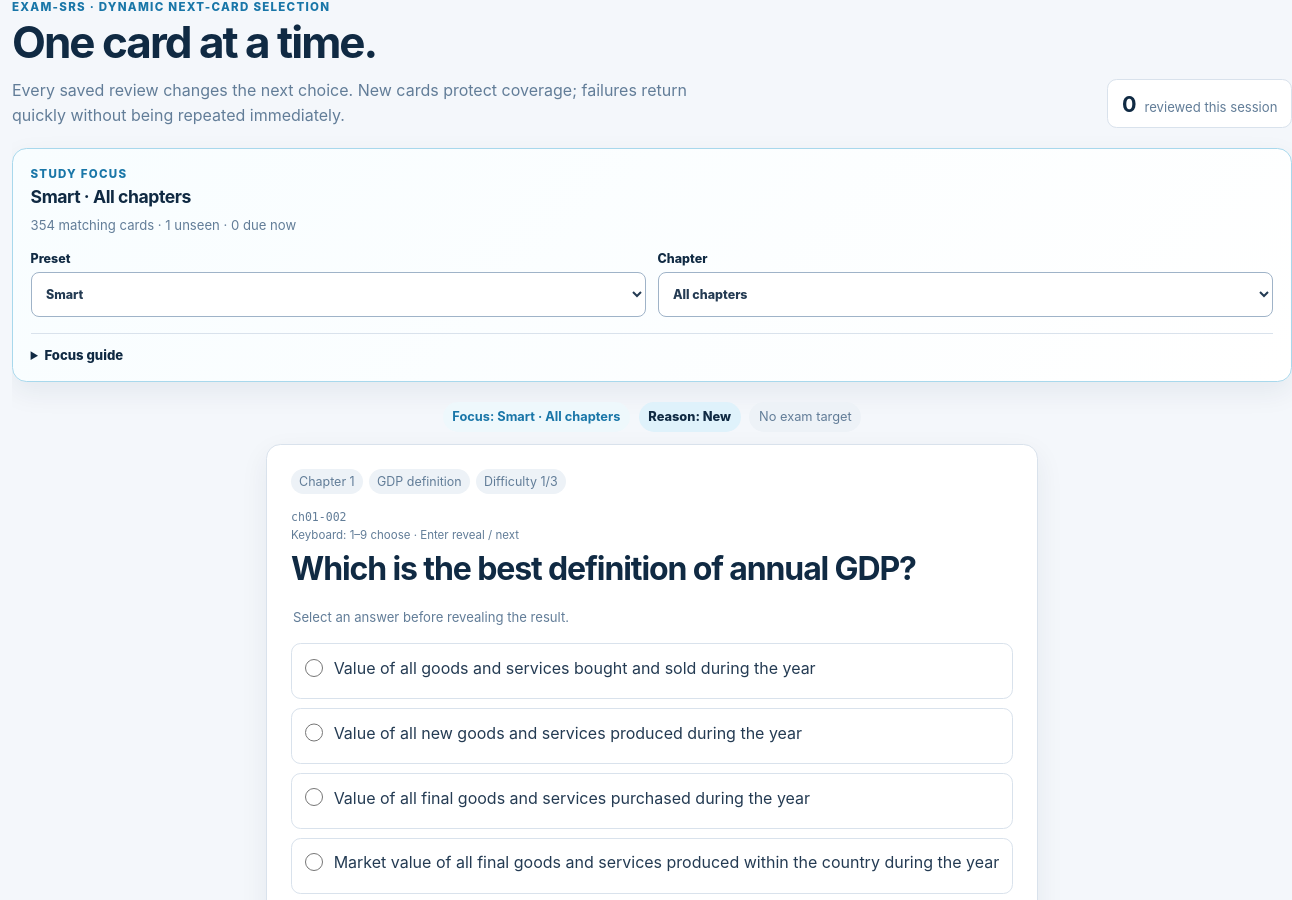
Test case: StudyPage session › keeps a completed result visible while a new focus waits for Next
This screenshot has width=1292, height=900.
Click the 4th radio button named "Market value of all final goods and services produced within the country during the year".
click(314, 862)  # box [305,853,323,871]
(page scrolled)
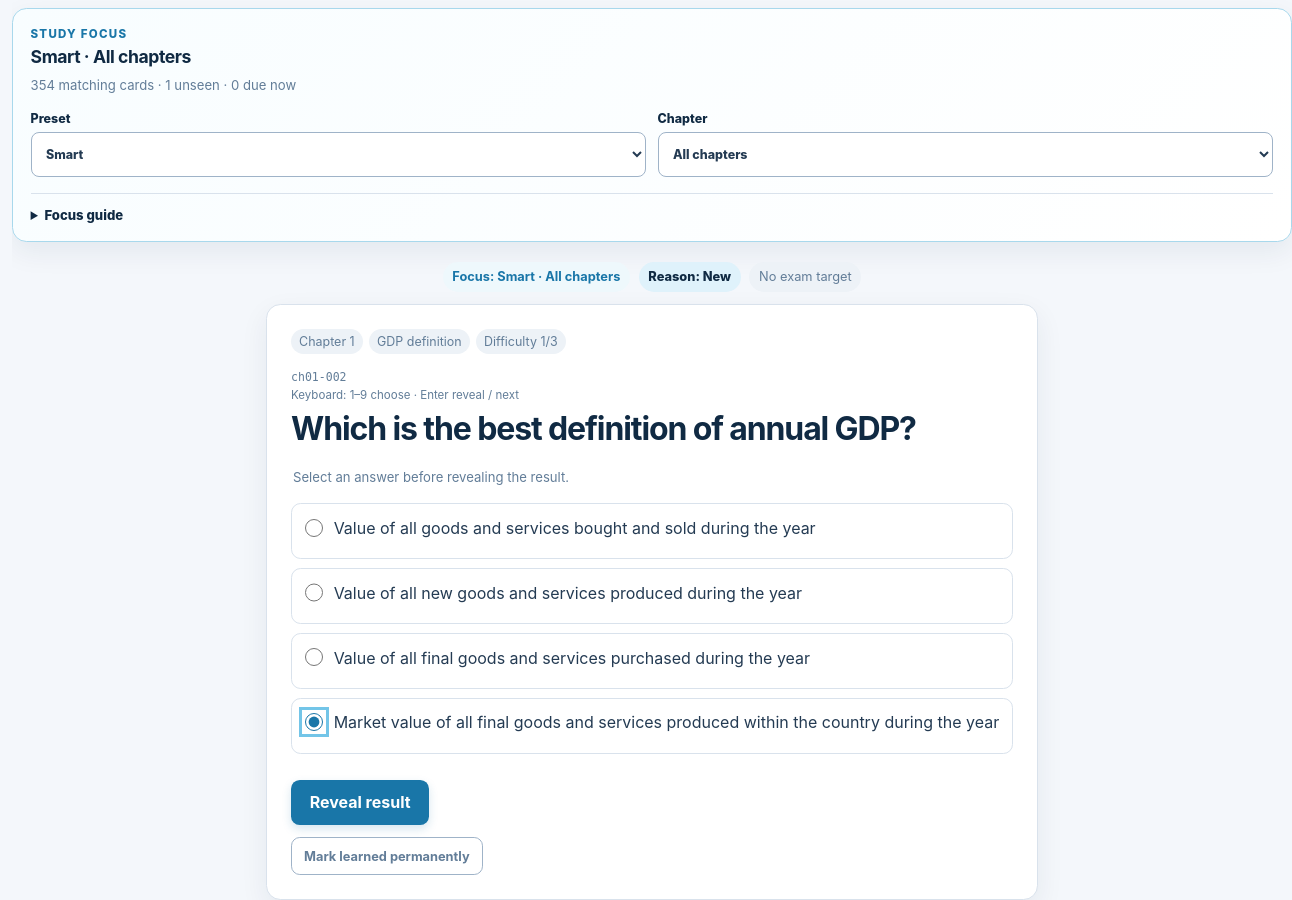
Click the button "Reveal result".
click(360, 803)  # box [291,780,429,826]
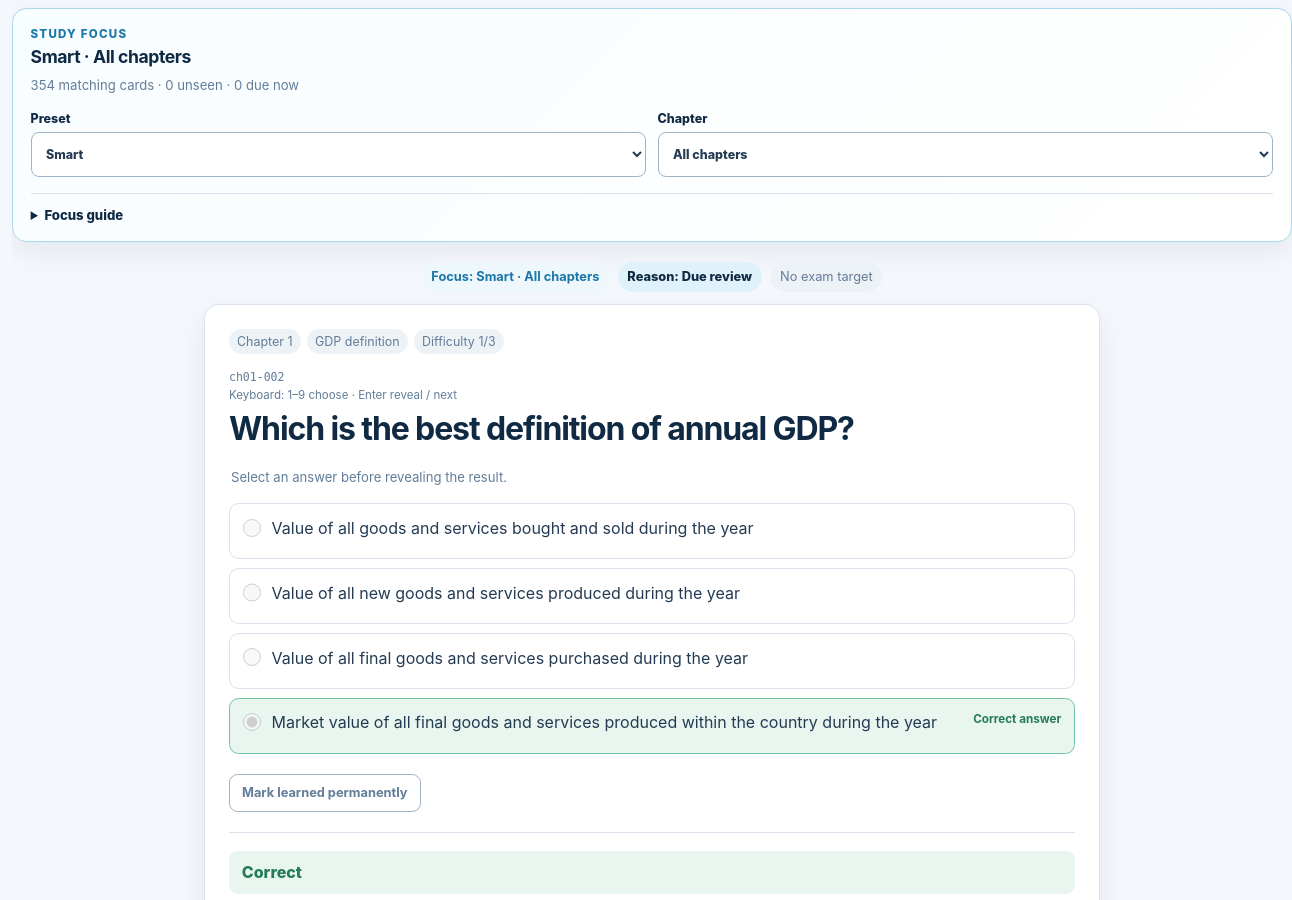
Select "Calculations" in the dropdown named "Study preset" at x=338, y=154, box [31,132,646,177]
(page scrolled)
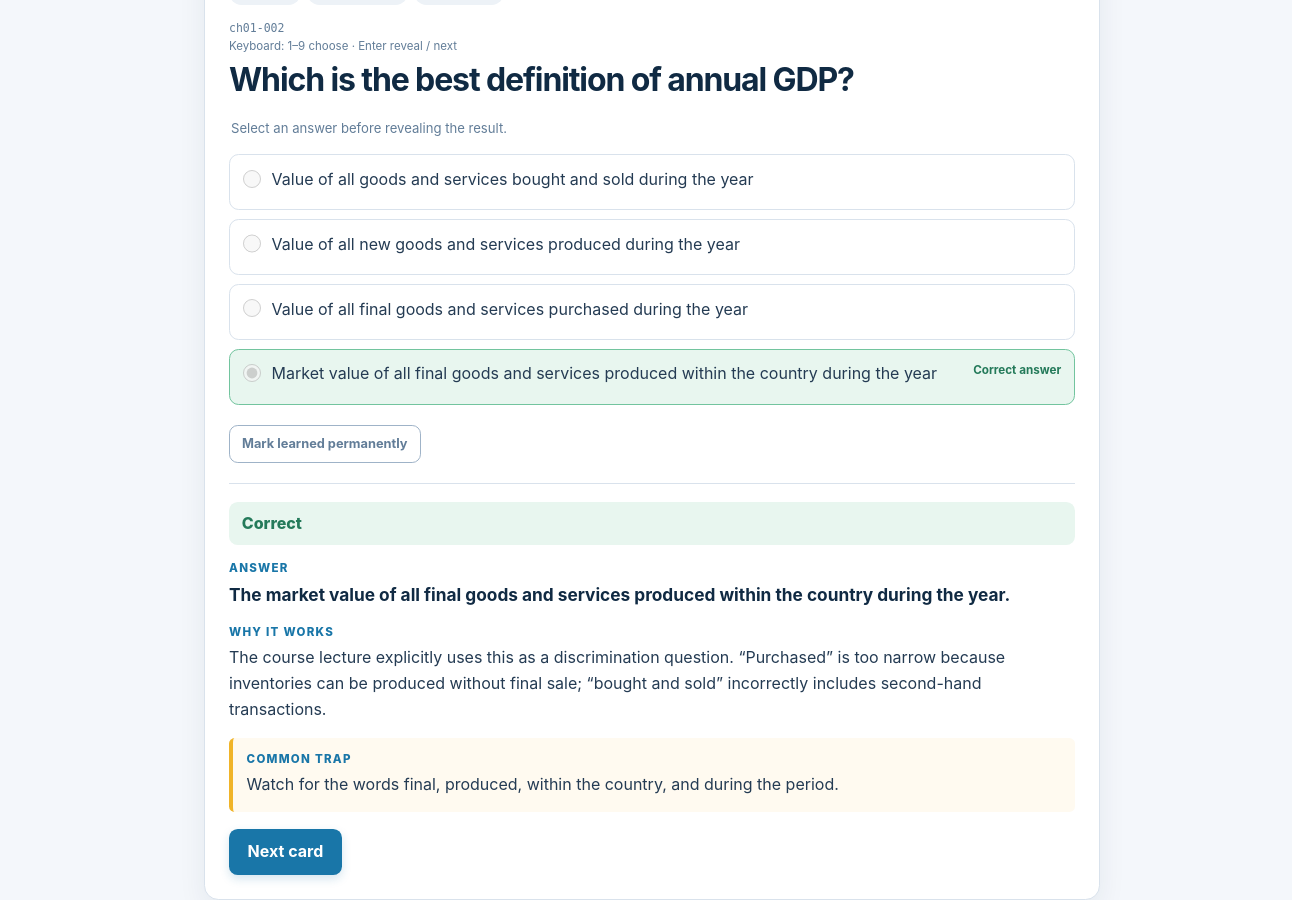
Check: the button "Next card" is shown
Click the button "Next card".
click(285, 852)  # box [229,829,342,875]
(page scrolled)
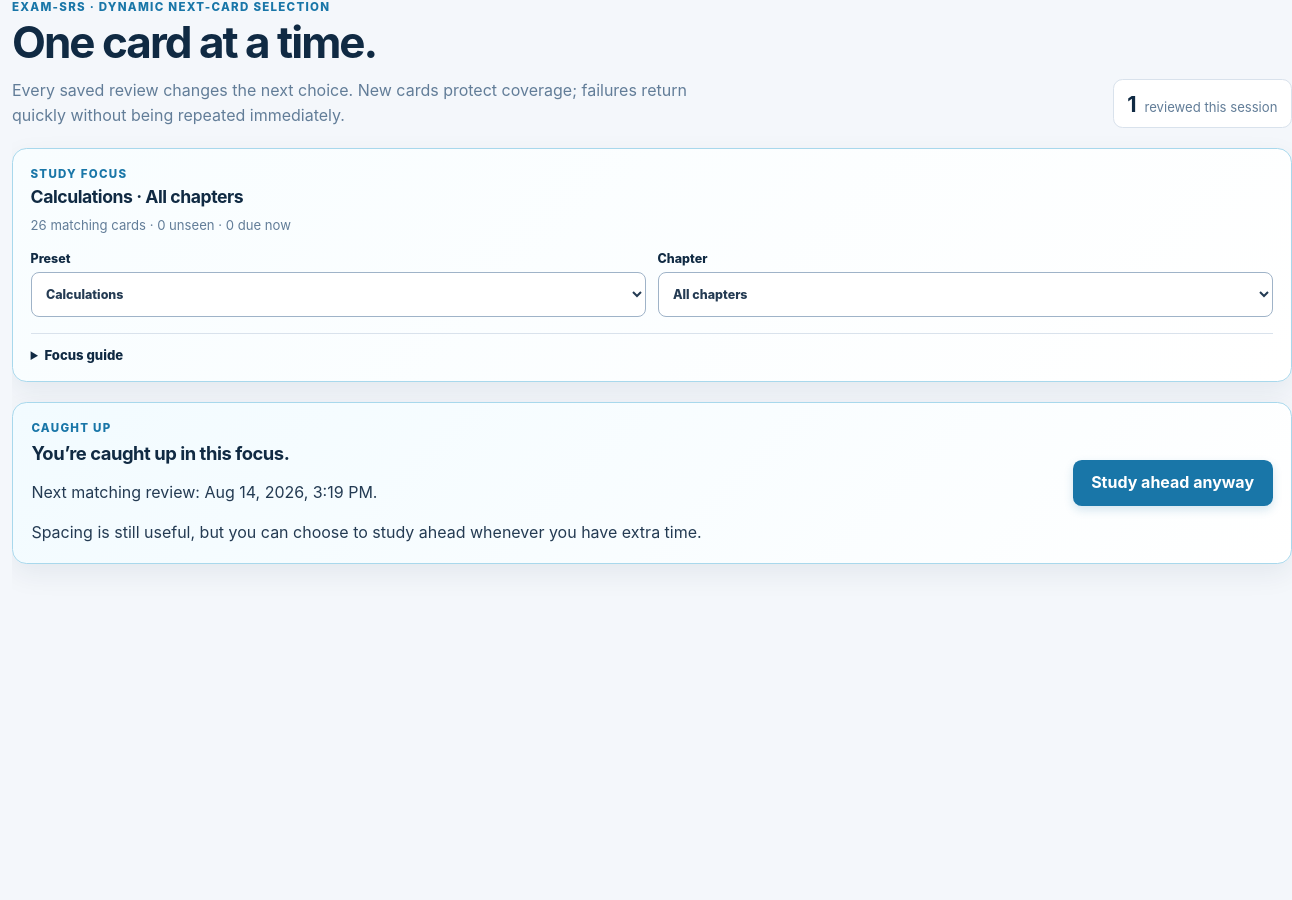
Check: the heading "You’re caught up in this focus." is shown, box [31,442,289,464]
